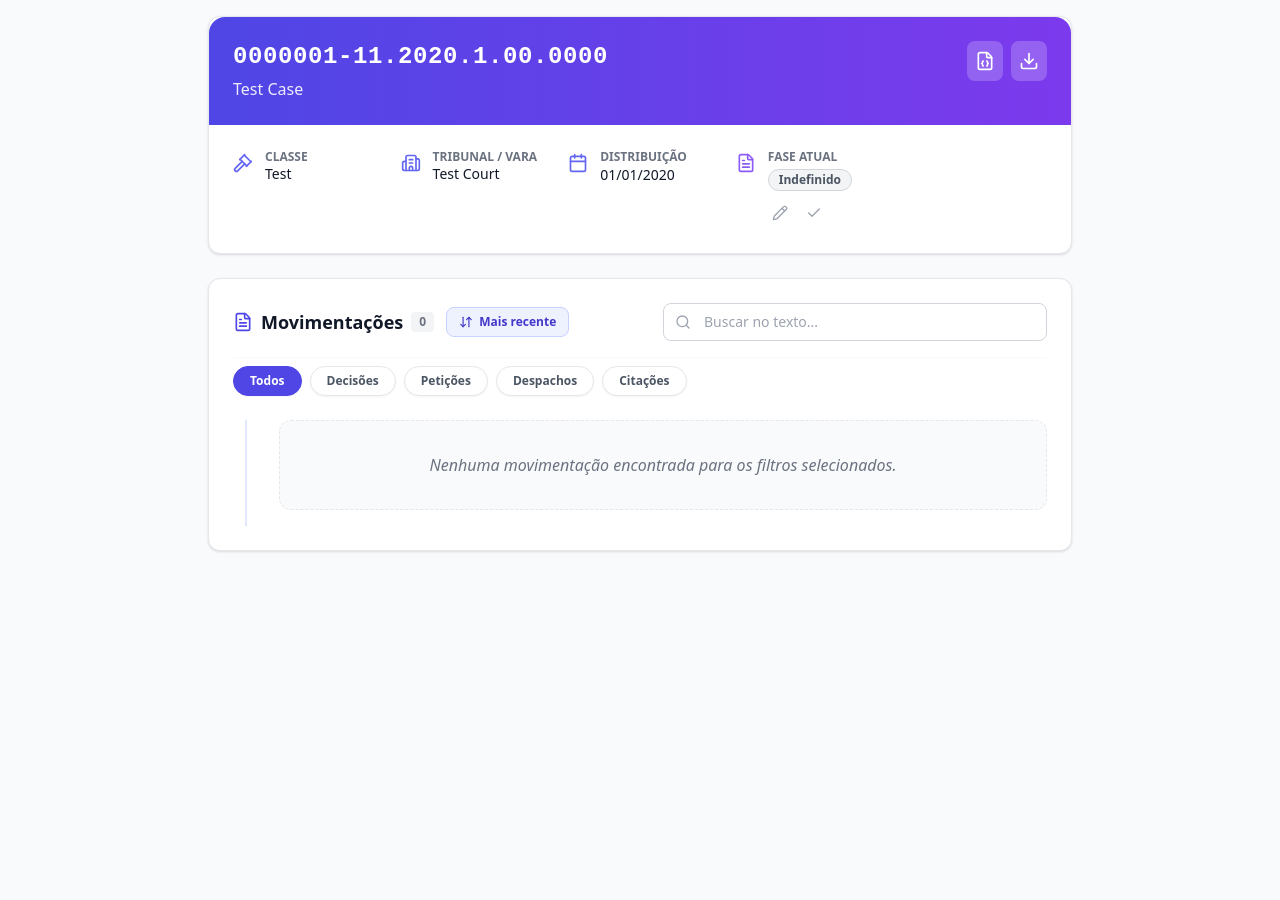
it: ProcessDetails Component Migration — REM-035 › renders JSON modal with close button
Click the button named "Ver JSON Bruto" at point(985, 61), box [967,41,1003,81]
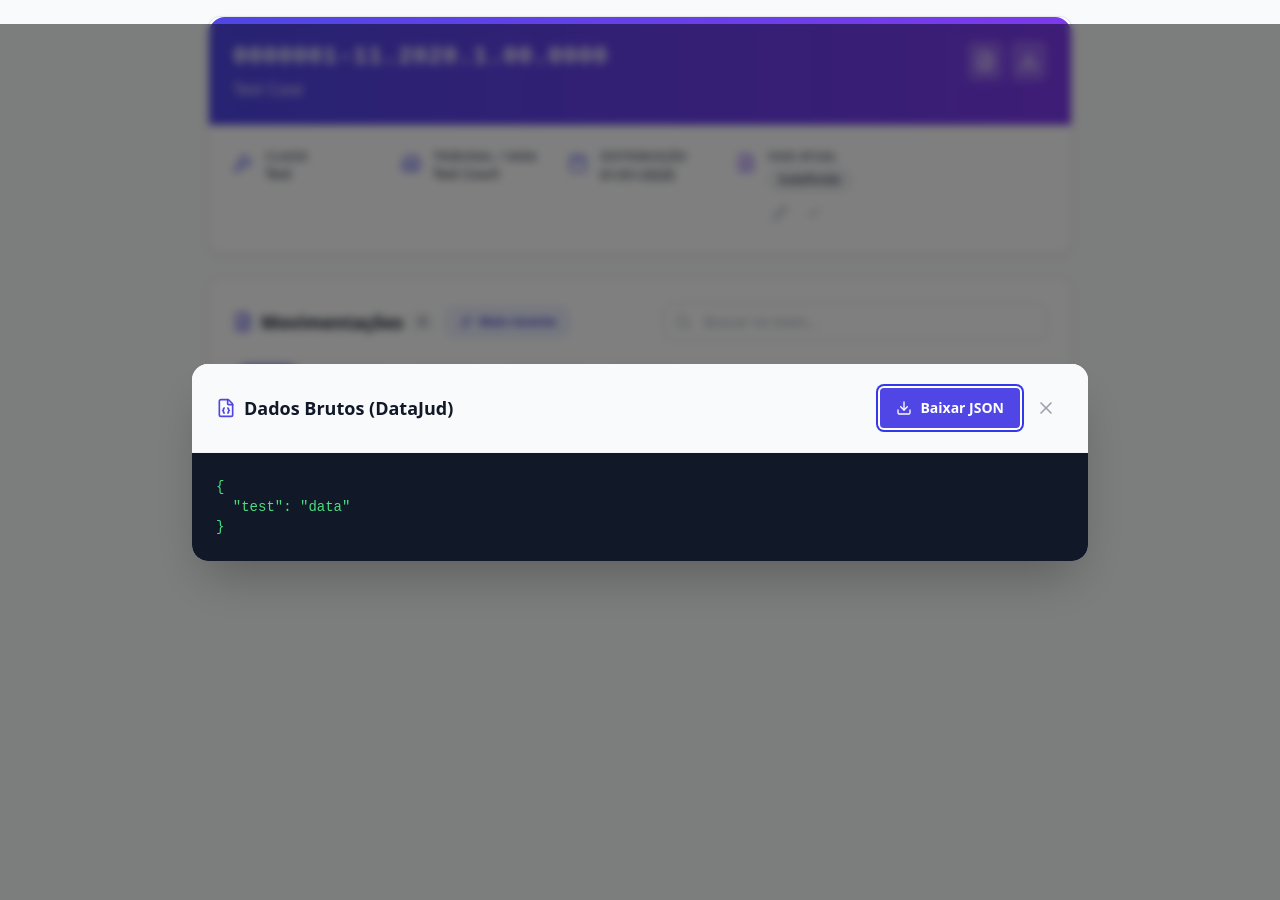
Result: the 2nd button is shown at [1028,388,1064,428]
